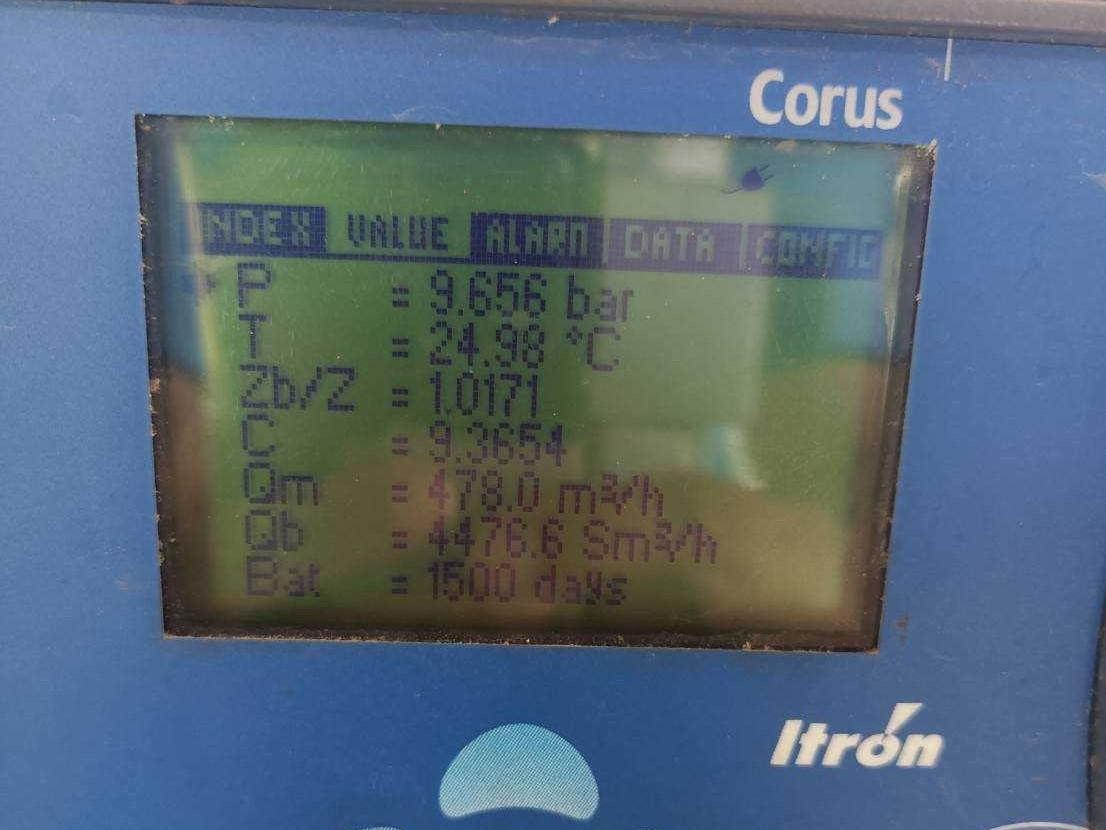digital_screen: (126, 116, 940, 654)
